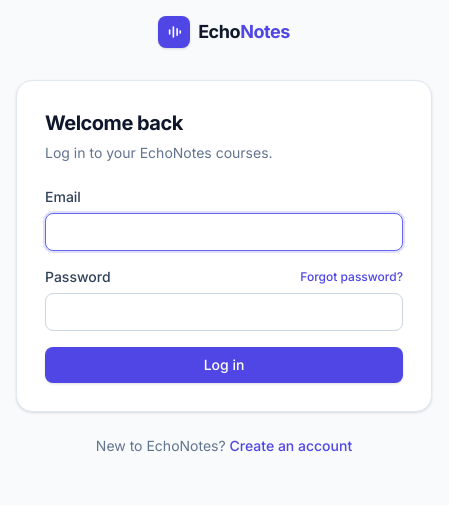
Test case: LoginPage › surfaces a backend error message on bad credentials
The image size is (449, 505).
Type "a@b.com" into the field labelled "Email" at x=224, y=232, box 45,213 -> 403,251
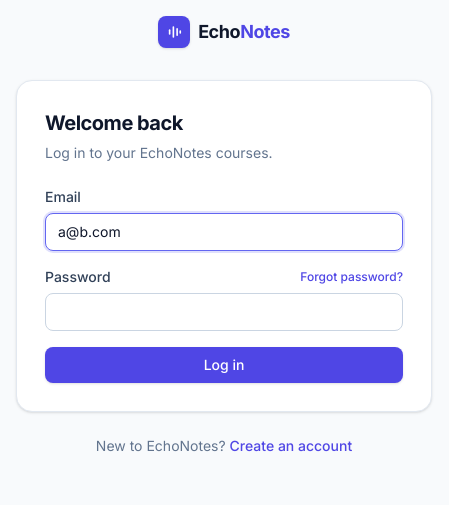
Type "wrong" into the password field labelled "Password" at x=224, y=312, box 45,293 -> 403,331
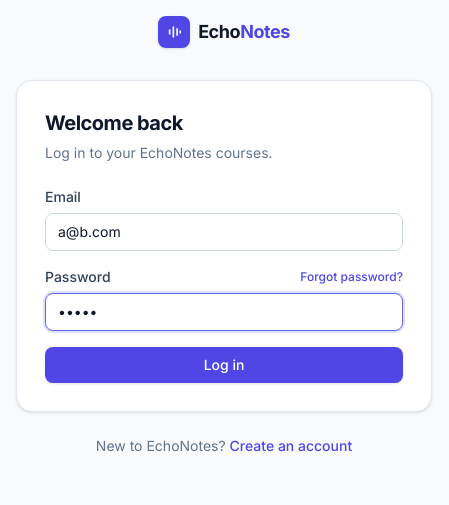
Click the button "Log in" at x=224, y=365, box 45,347 -> 403,383
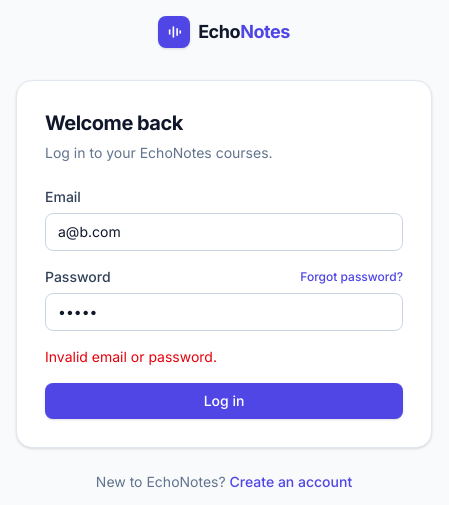
Now the text "Invalid email or password." is shown, box 45,348 -> 217,365
